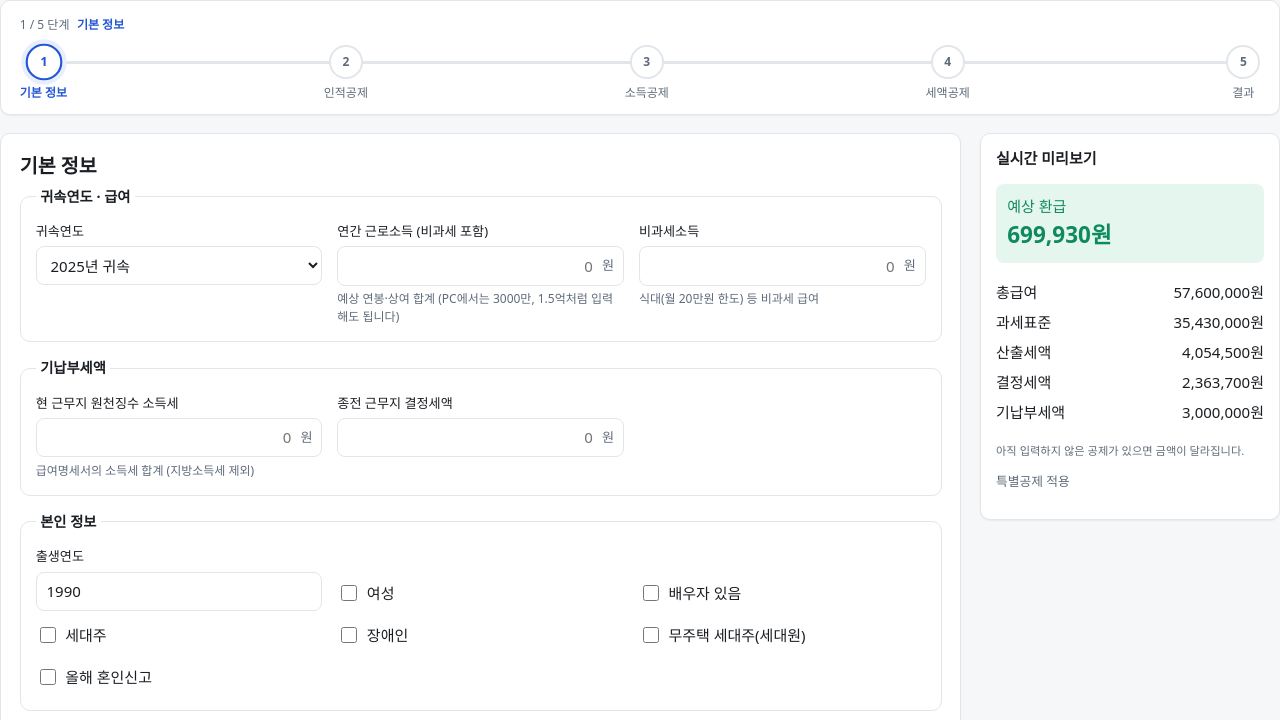
Test: SimulationWizard › 입력 검증 오류가 있으면 다음 단계로 넘어가지 않는다
Type "1000만" into the field labelled "연간 근로소득 (비과세 포함)". click: (481,266)
box: [337,246,624,286]
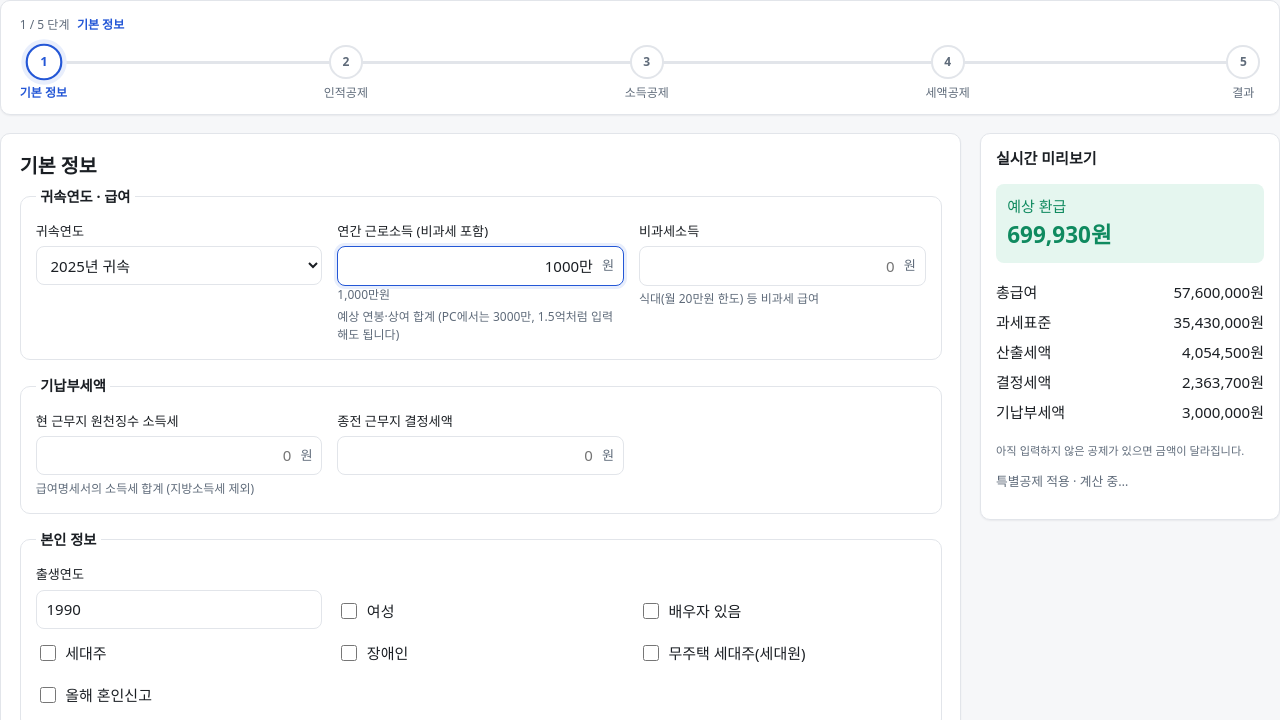
Type "2000만" into the field labelled "비과세소득". click: (782,266)
box: [639,246,926,286]
(page scrolled)
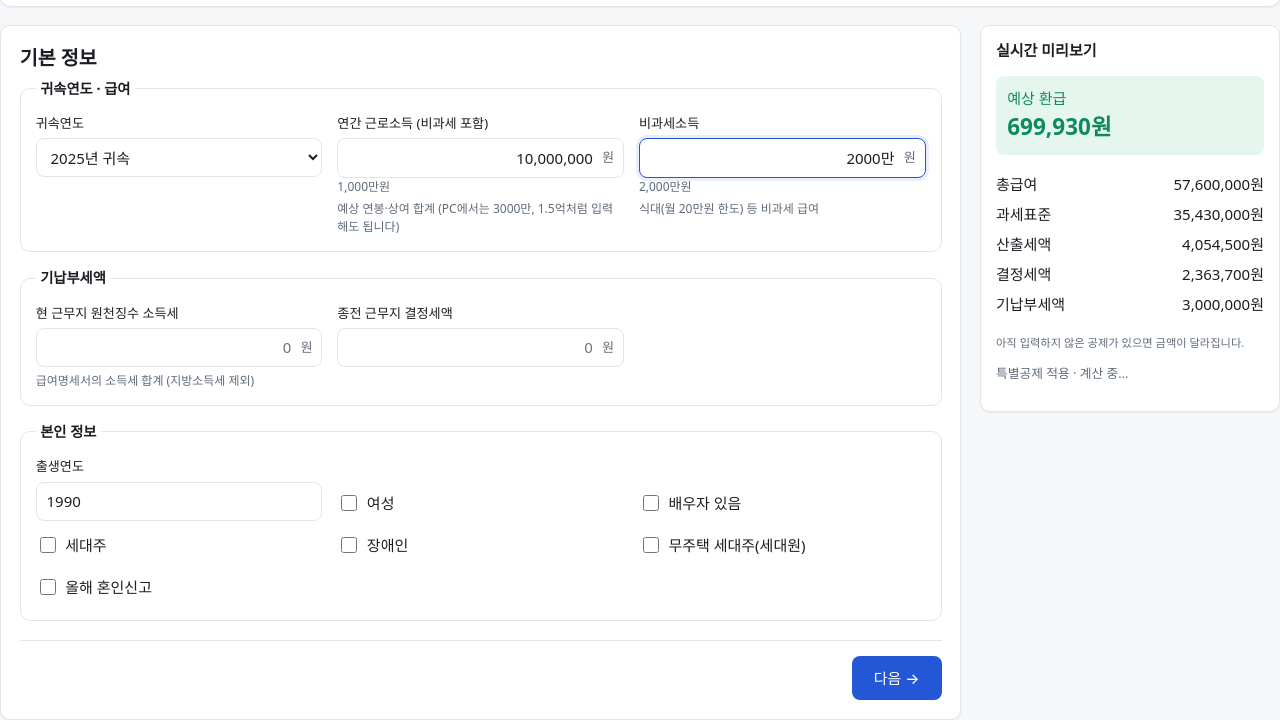
Click the button "다음 →". click: (897,678)
box: [852,656,942,700]
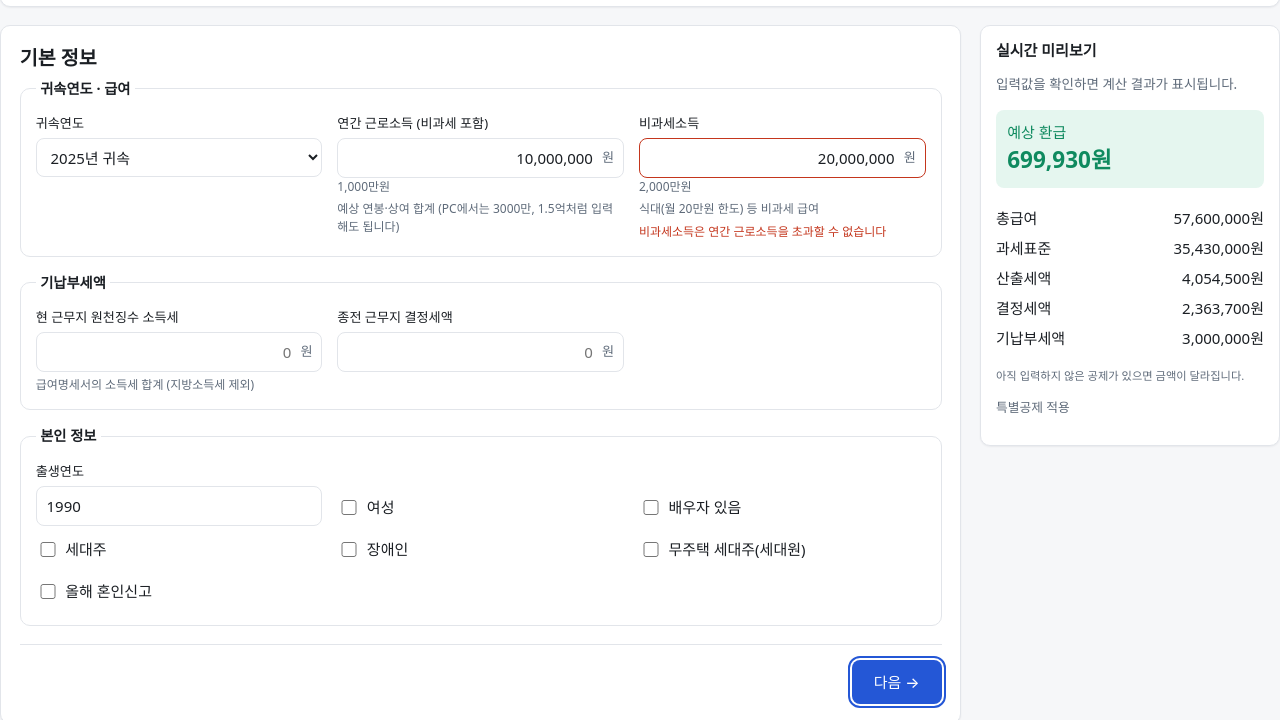
Check: the heading "기본 정보" is shown, box [20,44,97,71]
Check: the text "비과세소득은 연간 근로소득을 초과할 수 없습니다" is shown, box [639,223,926,241]
